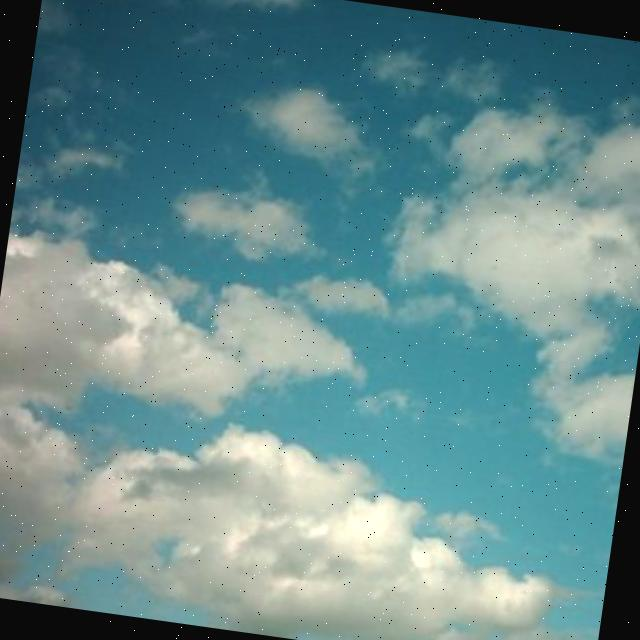Cu: (1, 54, 640, 572)
